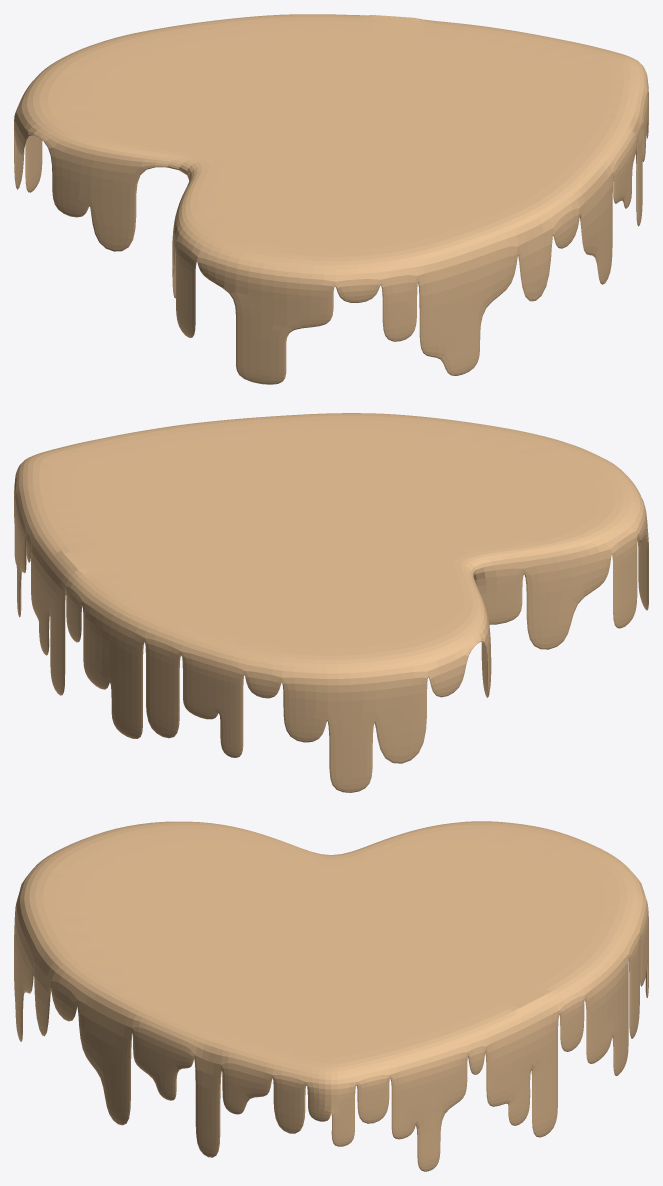
Rendered from GlazeCream.glb.
The picture shows the model from 3 angles, top to bottom: view 1: azimuth 30°, elevation 25°; view 2: azimuth 150°, elevation 25°; view 3: azimuth 270°, elevation 25°; orthographic projection.
Visible parts, largest first — view 1: Cylinder.008; view 2: Cylinder.008; view 3: Cylinder.008.
Part boxes in pixels (box(x1,y1,x2,y2)): Cylinder.008: box(14, 14, 648, 384); Cylinder.008: box(14, 413, 648, 792); Cylinder.008: box(14, 821, 648, 1171).
Bounding box in the file's own units: 1.63 × 0.3791 × 1.66.
